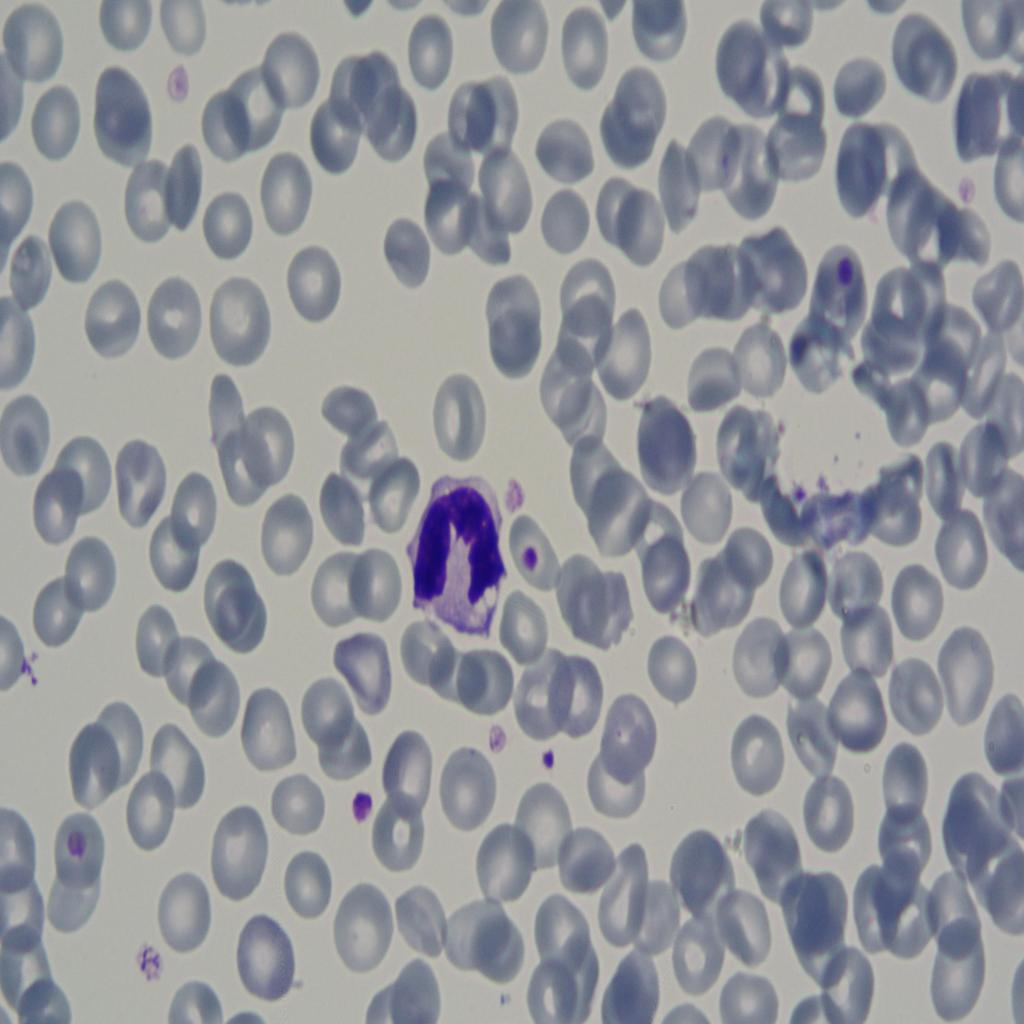Myeoblast: (409, 461, 508, 638)
Platelet: (348, 792, 384, 844), (165, 63, 196, 120), (835, 241, 860, 297), (532, 742, 564, 779), (500, 475, 530, 513), (480, 711, 506, 753), (517, 534, 542, 570)
